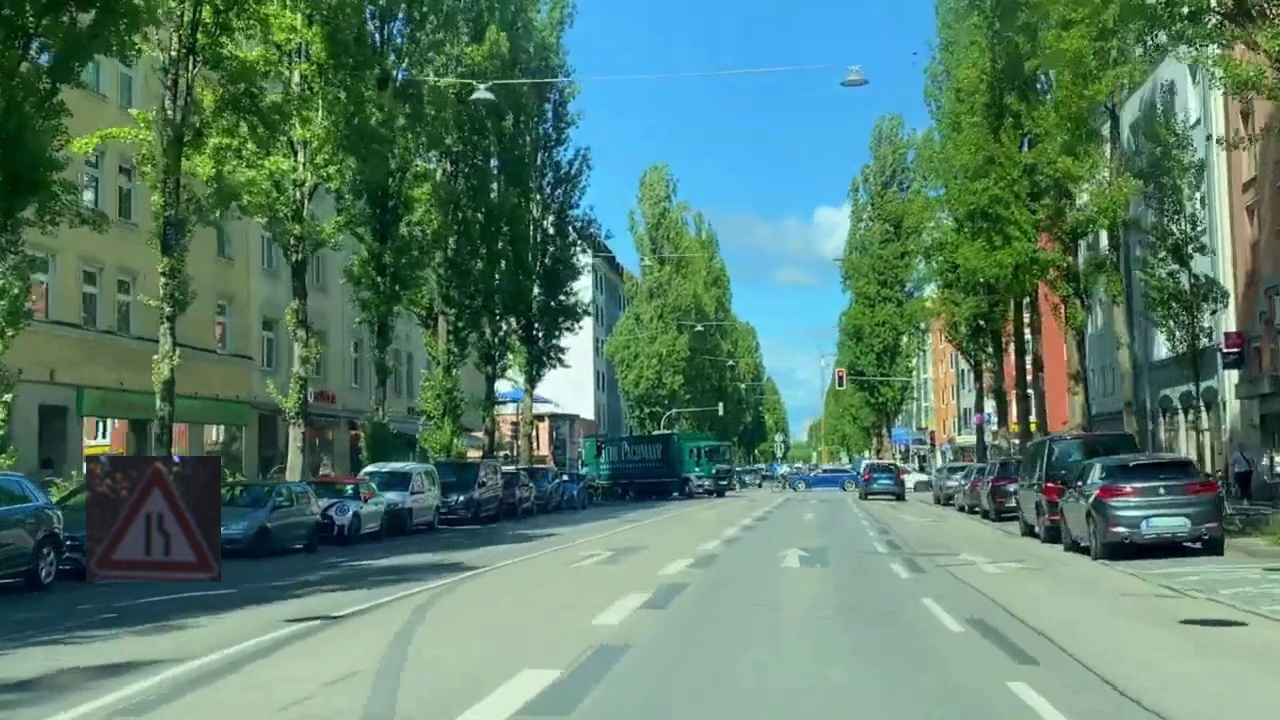Road narrows: (86, 456, 221, 582)
